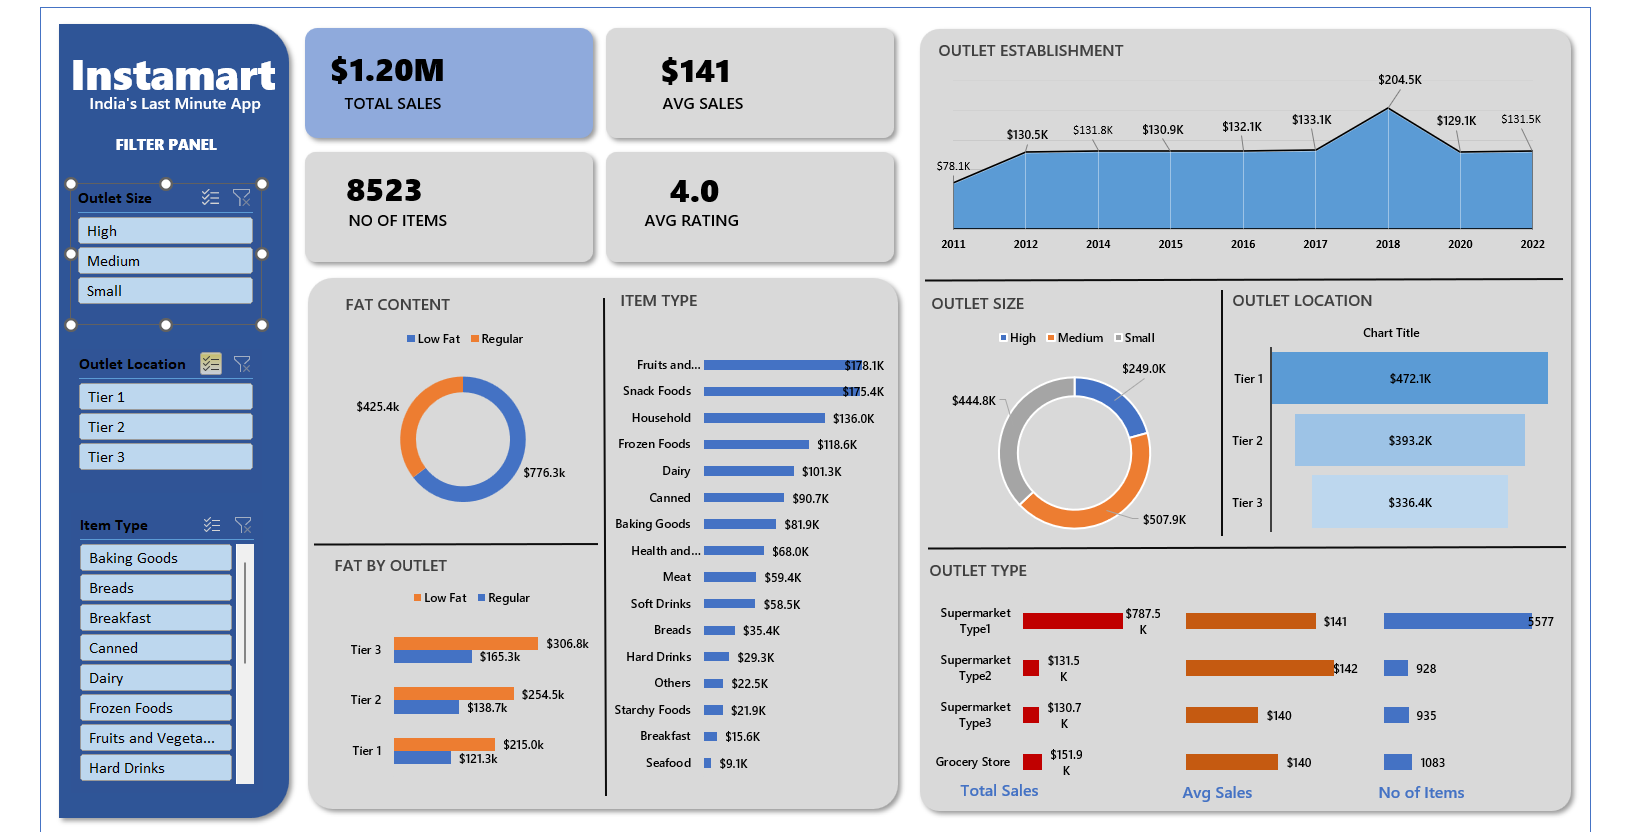

What the dashboard file says about the page in this screenshot:
{"tool":"powerbi","page":{"name":"Page 1","canvas":[1400,800],"ordinal":0},"visuals":[{"type":"shape","box":[12.5,25,204.2,750],"z":0},{"type":"textbox","box":[25,58.3,191.7,65.3],"z":1},{"type":"textbox","box":[33.3,106.9,165.3,30.6],"z":2},{"type":"cardVisual","fields":{"Data":["InstaMart Data.Total Sales","InstaMart Data.Average Sales","InstaMart Data.No of Items","InstaMart Data.Avg Rating"]},"box":[197.2,2.8,588.9,269.4],"z":3},{"type":"shape","box":[213.9,258.3,554.2,516.7],"z":4},{"type":"donutChart","title":"FAT CONTENT","fields":{"Category":["InstaMart Data.Item Fat Content"],"Y":["InstaMart Data.Total Sales"]},"box":[231.9,312.5,219.4,230.6],"z":5},{"type":"slicer","fields":{"Values":["Matrics.Matrics"]},"box":[259.7,272.2,465.3,40.3],"z":6},{"type":"cardVisual","fields":{"Data":["InstaMart Data.Total Sales"]},"box":[286.1,415.3,112.5,65.3],"z":7},{"type":"clusteredBarChart","title":"FAT BY OUTLET","fields":{"Y":["InstaMart Data.Total Sales"],"Category":["InstaMart Data.Outlet Location Type"],"Series":["InstaMart Data.Item Fat Content"]},"box":[237.5,555.6,219.4,230.6],"z":8},{"type":"shape","box":[240.3,543.1,212.5,12.5],"z":9},{"type":"shape","box":[473.6,312.5,18.1,450],"z":10},{"type":"barChart","title":"ITEM TYPE","fields":{"Category":["InstaMart Data.Item Type"],"Y":["InstaMart Data.Total Sales"]},"box":[493.1,312.5,258.3,450],"z":11},{"type":"shape","box":[768.1,25,631.9,756.9],"z":12},{"type":"lineChart","title":"OUTLET ESTABLISHMENT","fields":{"Category":["InstaMart Data.Outlet Establishment Year"],"Y":["InstaMart Data.Total Sales"]},"box":[794.4,58.3,580.6,234.7],"z":13},{"type":"shape","box":[786.1,293.1,588.9,12.5],"z":14},{"type":"donutChart","title":"OUTLET SIZE","fields":{"Y":["InstaMart Data.Total Sales"],"Category":["InstaMart Data.Outlet Size"]},"box":[786.1,312.5,275,225],"z":15},{"type":"shape","box":[1062.5,323.6,23.6,204.2],"z":16},{"type":"funnel","title":"OUTLET LOCATION","fields":{"Category":["InstaMart Data.Outlet Location Type"],"Y":["Sum(InstaMart Data.Sales)"]},"box":[1086.1,312.5,300,225],"z":17},{"type":"shape","box":[790.3,548.6,588.9,12.5],"z":18},{"type":"pivotTable","title":"OUTLET TYPE","fields":{"Rows":["InstaMart Data.Outlet Type"],"Values":["InstaMart Data.Total Sales","InstaMart Data.No of Items","InstaMart Data.Average Sales","InstaMart Data.Avg Rating","Sum(InstaMart Data.Item Visibility)"]},"box":[786.1,570.8,598.6,191.7],"z":19},{"type":"slicer","fields":{"Values":["InstaMart Data.Outlet Location Type"]},"box":[29.2,202.8,173.6,69.4],"z":20},{"type":"slicer","fields":{"Values":["InstaMart Data.Outlet Size"]},"box":[27.8,288.9,173.6,69.4],"z":21},{"type":"slicer","fields":{"Values":["InstaMart Data.Outlet Type"]},"box":[29.2,379.2,173.6,69.4],"z":22}]}

Visuals, with their boxes on the page's 1400x800 design canvas (x1, y1, x2, y2). These are canvas units, not pixel positions in the 1625x832 screenshot, which may show the page scaled, cropped or inside an application window:
shape: 12 25 217 775
textbox: 25 58 217 124
textbox: 33 107 199 138
cardVisual - InstaMart Data.Total Sales x InstaMart Data.Average Sales: 197 3 786 272
shape: 214 258 768 775
"FAT CONTENT" donutChart: 232 312 451 543
slicer - Matrics.Matrics: 260 272 725 312
cardVisual - InstaMart Data.Total Sales: 286 415 399 481
"FAT BY OUTLET" clusteredBarChart: 238 556 457 786
shape: 240 543 453 556
shape: 474 312 492 762
"ITEM TYPE" barChart: 493 312 751 762
shape: 768 25 1400 782
"OUTLET ESTABLISHMENT" lineChart: 794 58 1375 293
shape: 786 293 1375 306
"OUTLET SIZE" donutChart: 786 312 1061 538
shape: 1062 324 1086 528
"OUTLET LOCATION" funnel: 1086 312 1386 538
shape: 790 549 1379 561
"OUTLET TYPE" pivotTable: 786 571 1385 762
slicer - InstaMart Data.Outlet Location Type: 29 203 203 272
slicer - InstaMart Data.Outlet Size: 28 289 201 358
slicer - InstaMart Data.Outlet Type: 29 379 203 449
